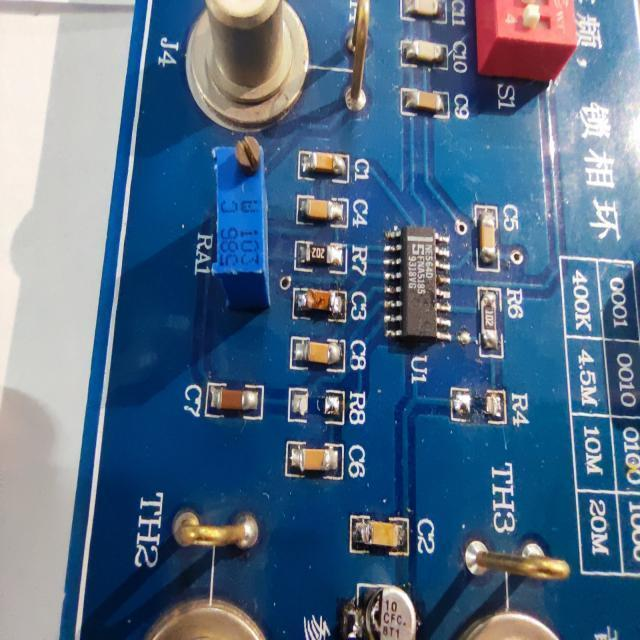Missing component: (278, 374, 370, 435), (442, 376, 536, 431)
